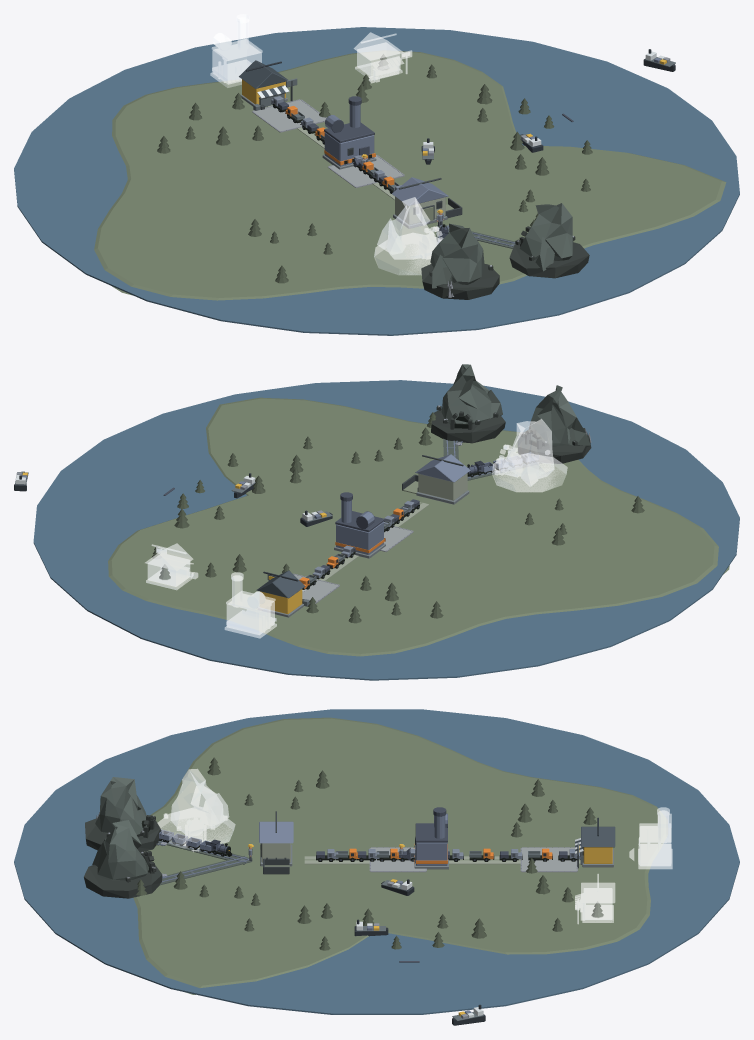
Rendered from Island_Iron.fbx.
3 views of the same model, one above another, from view 1: azimuth 30°, elevation 25°; view 2: azimuth 150°, elevation 25°; view 3: azimuth 270°, elevation 25° (orthographic). The views are drawn at different scales.
Parts seen in each view (by area): view 1: isle_Iron, lagoon_Iron, mine_Iron.001, mine_Iron, ghost_mine.002, refinery.002, storage.002, ghost_refinery.002, ghost_market.002, market.002, pad_expand.005, pad_expand.004; view 2: isle_Iron, lagoon_Iron, mine_Iron.001, ghost_mine.002, mine_Iron, storage.002, ghost_refinery.002, refinery.002, ghost_market.002, market.002, pad_expand.005; view 3: isle_Iron, lagoon_Iron, mine_Iron.001, ghost_mine.002, mine_Iron, ghost_refinery.002, refinery.002, storage.002, market.002, ghost_market.002, pad_expand.005, pad_expand.004 (+1 smaller).
Boxes of the visible parts, x1,y1,x2,y2 form: isle_Iron: (94,50,726,300); lagoon_Iron: (14,27,739,335); mine_Iron.001: (509,203,589,278); mine_Iron: (421,223,499,299); ghost_mine.002: (374,197,443,275); refinery.002: (322,96,376,169); storage.002: (392,177,462,228); ghost_refinery.002: (210,14,262,87); ghost_market.002: (354,32,412,83); market.002: (239,60,297,110); pad_expand.005: (252,99,326,132); pad_expand.004: (328,155,404,188); isle_Iron: (108,397,729,656); lagoon_Iron: (33,380,739,680); mine_Iron.001: (431,364,505,445); ghost_mine.002: (492,419,567,492); mine_Iron: (517,385,591,463); storage.002: (402,454,470,504); ghost_refinery.002: (224,572,276,638); refinery.002: (334,492,385,558); ghost_market.002: (145,543,198,590); market.002: (256,570,309,617); pad_expand.005: (293,573,339,603); isle_Iron: (133,717,667,994); lagoon_Iron: (14,709,739,1014); mine_Iron.001: (84,820,167,898); ghost_mine.002: (157,769,235,851); mine_Iron: (85,777,166,852); ghost_refinery.002: (629,807,672,869); refinery.002: (405,807,448,869); storage.002: (259,811,293,874); market.002: (575,817,615,868); ghost_market.002: (575,874,615,924); pad_expand.005: (520,847,577,872); pad_expand.004: (369,847,426,872).
Bounding box in the file's own units: 148 × 19.17 × 143.
